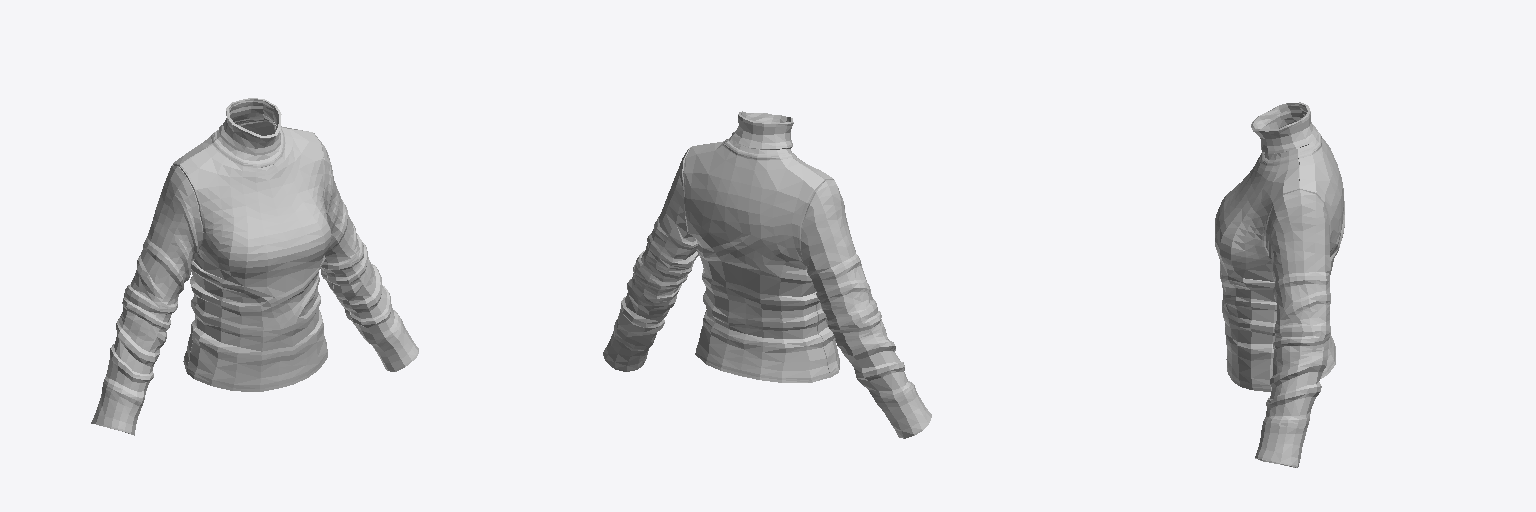
File: gray-sweater.obj
3 renders of one model, left to right at view 1: azimuth 30°, elevation 25°; view 2: azimuth 150°, elevation 25°; view 3: azimuth 270°, elevation 25°, orthographic.
Size of the model in its own units: 95 by 82.16 by 33.45.